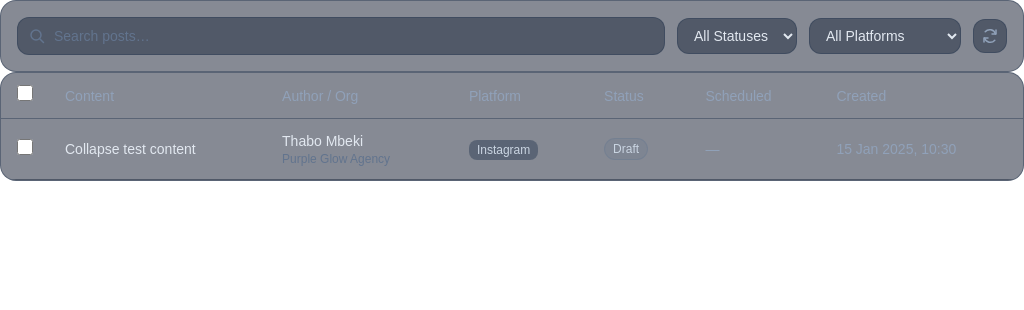
Test case: PostModerationTable › Expandable rows › collapses expanded row on second click
The width and height of the screenshot is (1024, 310).
Click the button with aria-label "toggle full content".
click(130, 149)  # box [65,139,196,159]
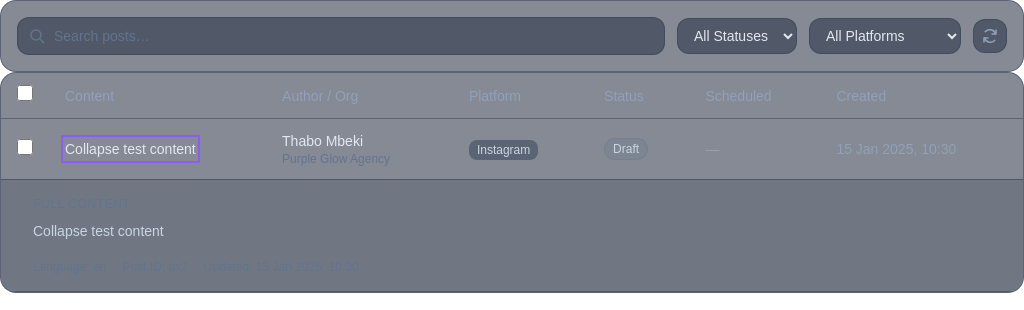
Click the button with aria-label "toggle full content".
click(130, 149)  # box [65,139,196,159]
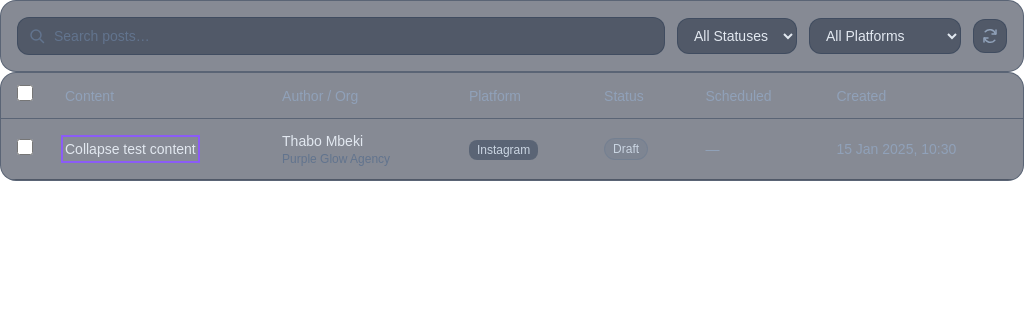
Expected: the text "Full Content" is gone
